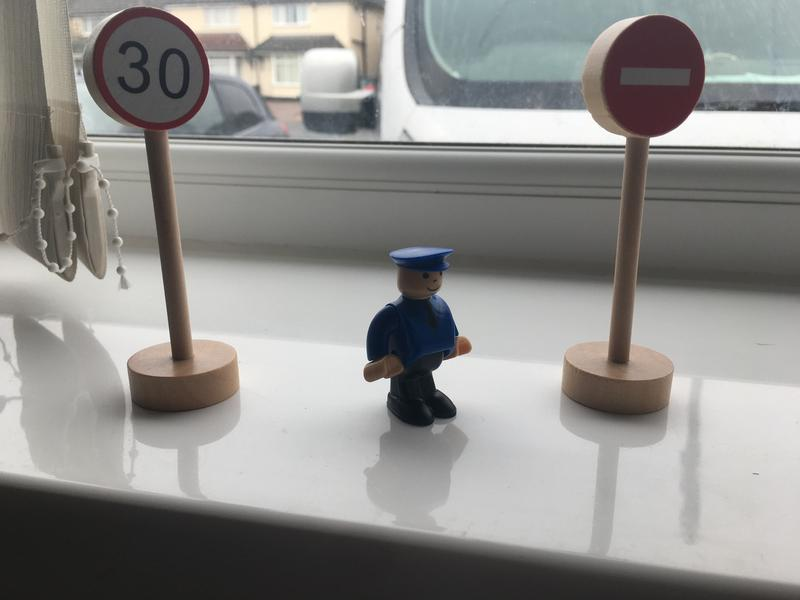Traffic_Sign_30: (91, 7, 211, 130)
Traffic_Sign_No_Entry: (601, 16, 706, 138)
person: (366, 247, 475, 435)
